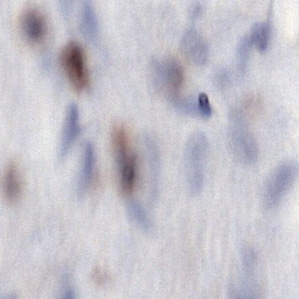Lymphocyte: (65, 43, 90, 92)
